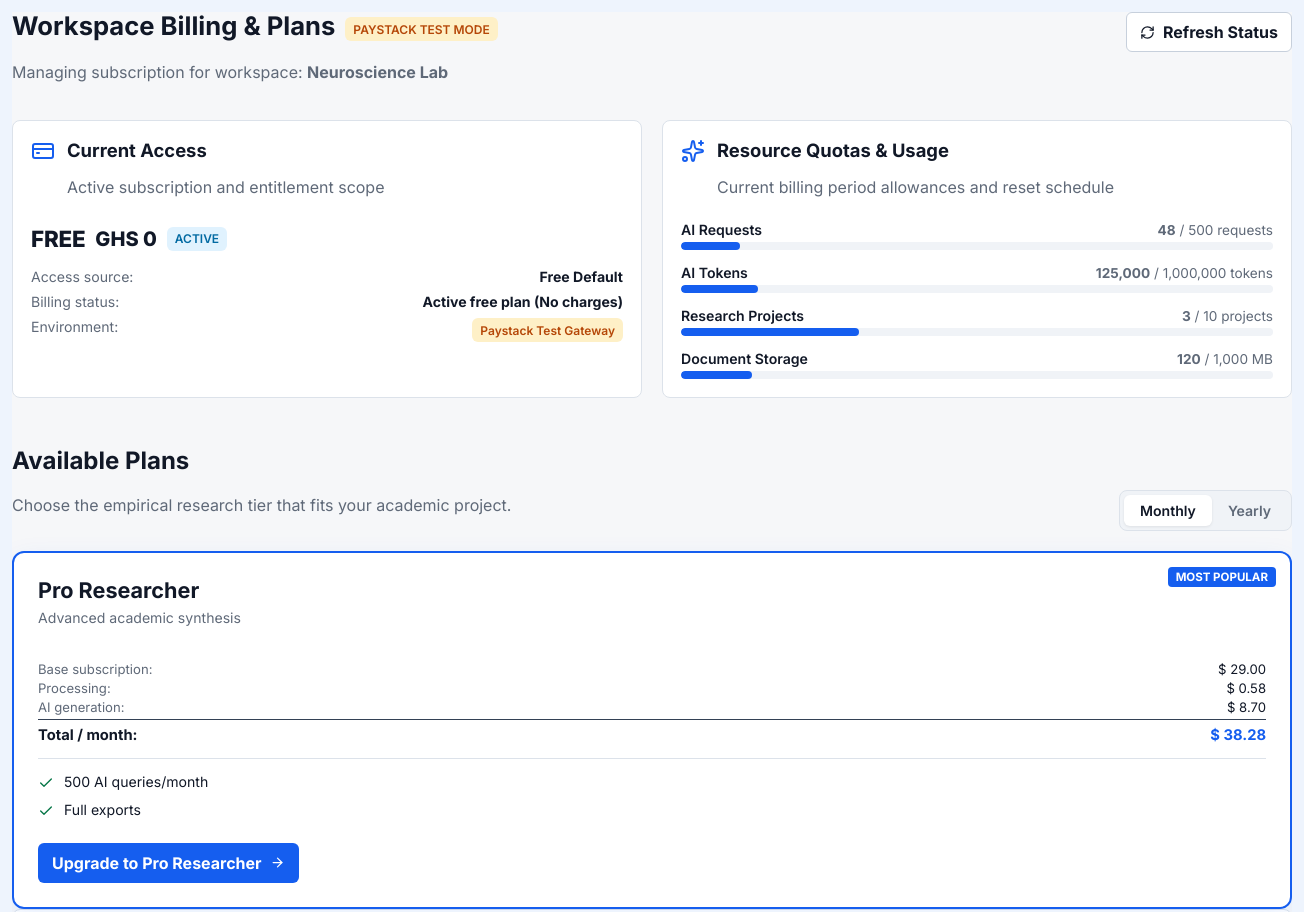
Scenario: BillingPage Component › loads dynamic pricing tiers from public API and displays usage quotas
Check: the text "Neuroscience Lab" is shown, box [307,62,448,82]
Check: the text "48" is shown, box [1158,222,1176,238]
Note: Toggle to yearly billing
Click the button "Yearly" at [1249, 510], box [1212,495,1287,526]
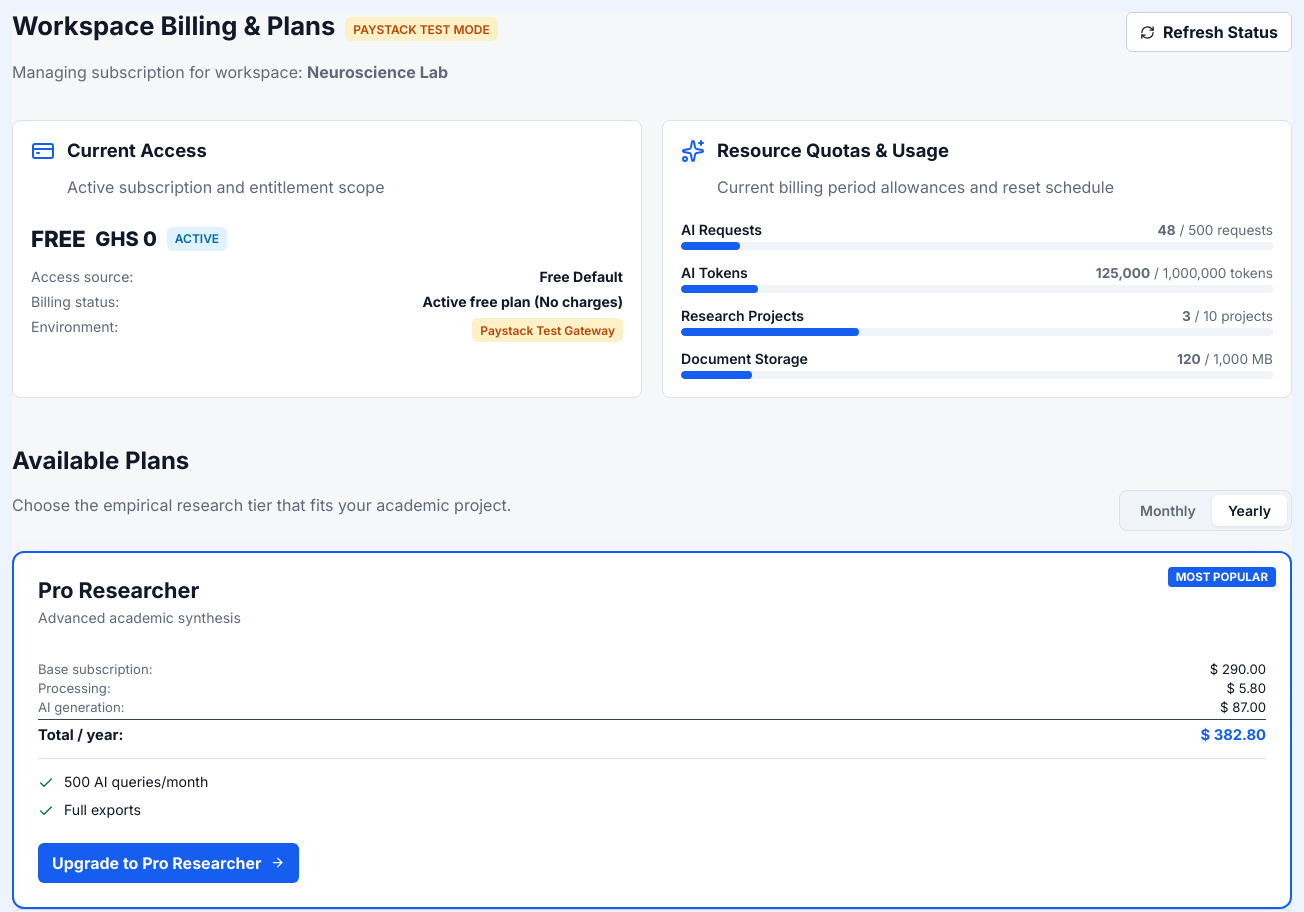
Check: the text "$ 290.00" is shown, box [1210,661,1266,677]
